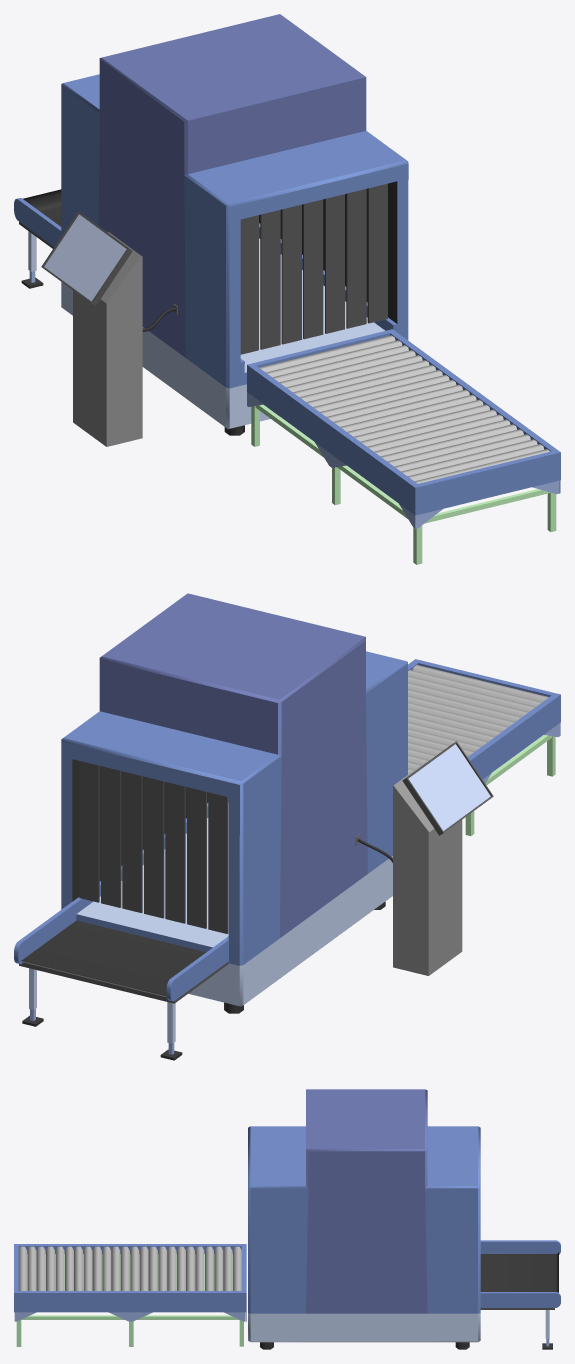
File: Suitcase Scanner.fbx
The picture shows the model from 3 angles, top to bottom: view 1: azimuth 30°, elevation 25°; view 2: azimuth 150°, elevation 25°; view 3: azimuth 270°, elevation 25°; orthographic projection. The views are drawn at different scales.
Visible parts, largest first — view 1: Suitcase scanner; view 2: Suitcase scanner; view 3: Suitcase scanner.
Part boxes in pixels (x1=…): Suitcase scanner: x1=14, y1=14, x2=560, y2=564; Suitcase scanner: x1=14, y1=593, x2=560, y2=1060; Suitcase scanner: x1=14, y1=1089, x2=560, y2=1349.
Bounding box in the file's own units: 201 × 196 × 470.
